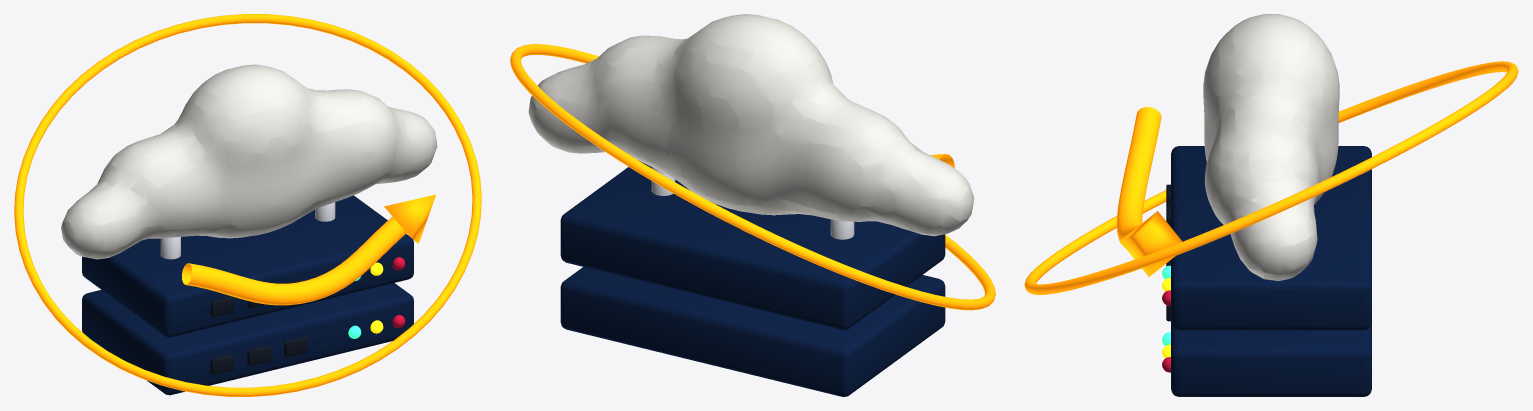
File: screen-aws-cloud.glb
3 renders of one model, left to right at view 1: azimuth 30°, elevation 25°; view 2: azimuth 150°, elevation 25°; view 3: azimuth 270°, elevation 25°, orthographic. The views are drawn at different scales.
Visible parts, largest first — view 1: AWSCloudCrown, ServerBlade_0, ServerBlade_1, AWSOrbitRing, AWSSmileArc, AWSSmileArrow, CloudPillar_-0.42, ServerVent_0_-0.38, ServerVent_1_-0.18, ServerVent_1_0.02, ServerVent_1_-0.38; view 2: AWSCloudCrown, ServerBlade_0, ServerBlade_1, AWSOrbitRing, CloudPillar_-0.42; view 3: AWSCloudCrown, ServerBlade_0, ServerBlade_1, AWSOrbitRing, AWSSmileArc, AWSSmileArrow.
Part boxes in pixels (<box>): AWSCloudCrown: <box>61,64,437,259</box>; ServerBlade_0: <box>82,195,413,337</box>; ServerBlade_1: <box>82,283,413,395</box>; AWSOrbitRing: <box>14,14,481,396</box>; AWSSmileArc: <box>182,216,406,305</box>; AWSSmileArrow: <box>384,194,435,243</box>; CloudPillar_-0.42: <box>160,237,180,259</box>; ServerVent_0_-0.38: <box>210,296,233,317</box>; ServerVent_1_-0.18: <box>247,345,270,365</box>; ServerVent_1_0.02: <box>284,336,307,356</box>; ServerVent_1_-0.38: <box>210,354,233,374</box>; AWSCloudCrown: <box>528,14,974,236</box>; ServerBlade_0: <box>560,160,945,329</box>; ServerBlade_1: <box>560,267,945,396</box>; AWSOrbitRing: <box>510,44,995,310</box>; CloudPillar_-0.42: <box>830,219,854,239</box>; AWSCloudCrown: <box>1203,14,1339,280</box>; ServerBlade_0: <box>1171,146,1371,330</box>; ServerBlade_1: <box>1171,323,1371,396</box>; AWSOrbitRing: <box>1024,61,1518,294</box>; AWSSmileArc: <box>1116,107,1161,248</box>; AWSSmileArrow: <box>1120,211,1182,276</box>.
Bounding box in the file's own units: 2.11 × 1.38 × 2.02.
